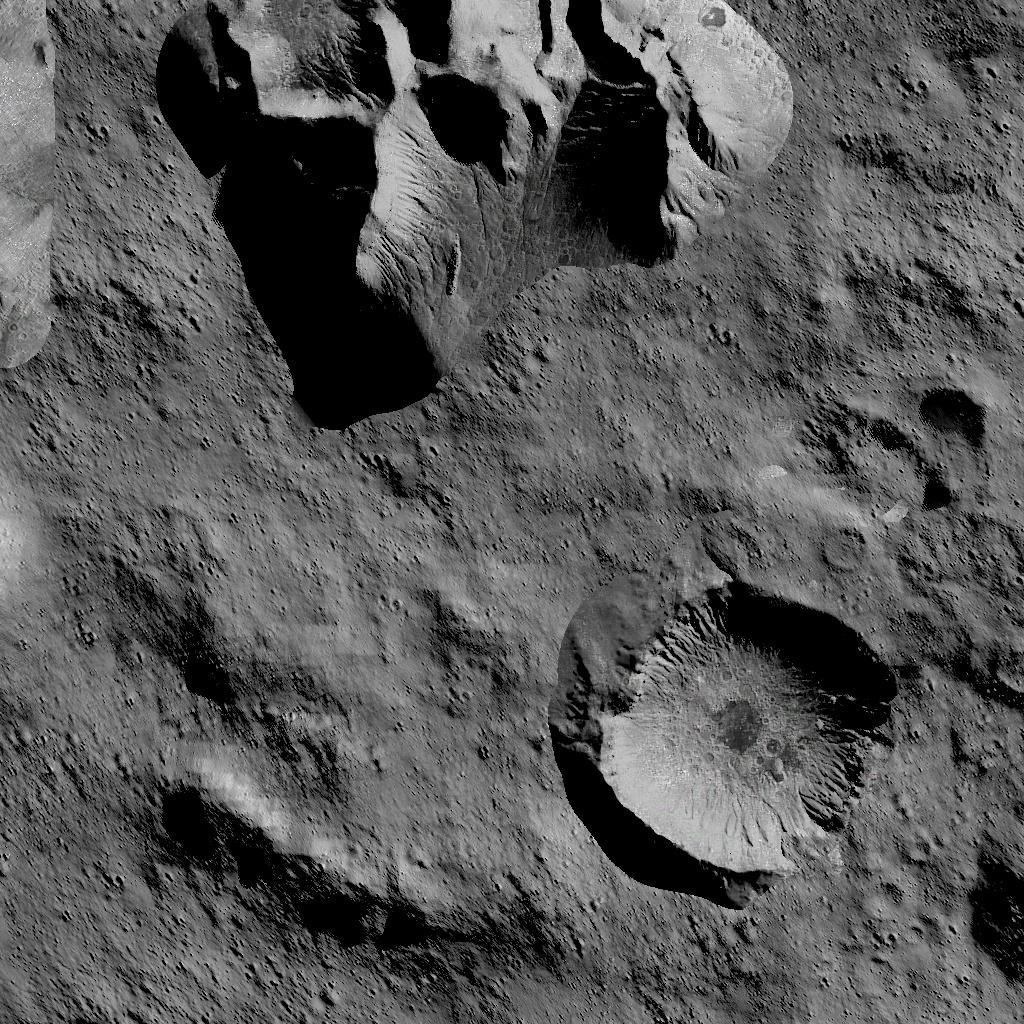Boulders: (161, 0, 794, 444), (161, 770, 578, 973), (0, 0, 56, 370)
Crater: (594, 568, 906, 888)
Plan surface: (814, 0, 1024, 364), (0, 630, 148, 1024), (594, 900, 958, 1024)
